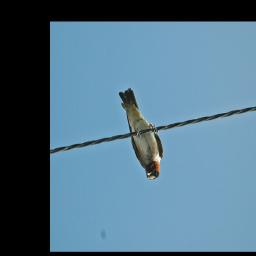Swallow: (117, 87, 164, 182)
